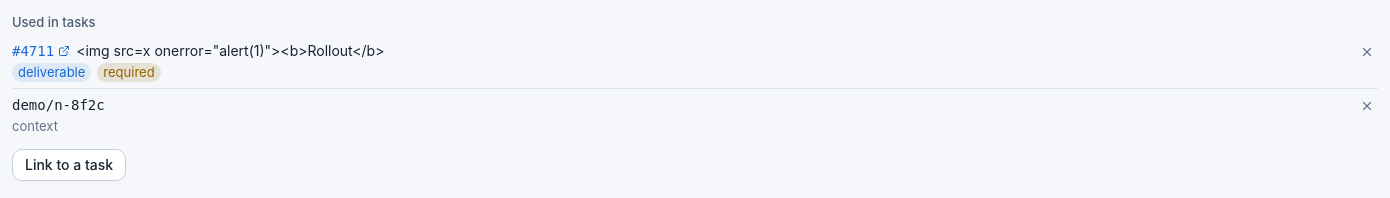
TaskLinks › gives editors remove and link actions, readers none
The width and height of the screenshot is (1390, 198).
Expected: the text "demo/n-8f2c" is shown, [12,95,105,115]
Click the button named "Remove the link to task #4711" at [1367, 52], box [1356,41,1378,63]
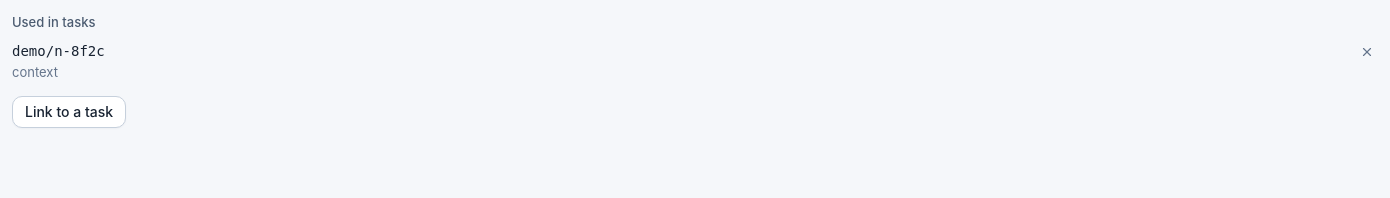
Expected: the button "Link to a task" is shown, [12,96,126,128]
Now the link "#4711" is gone
